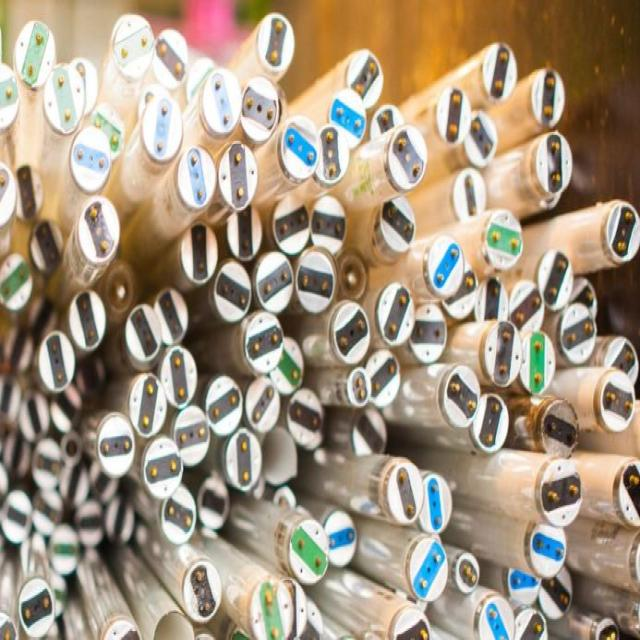electronic: (0, 9, 638, 638)
